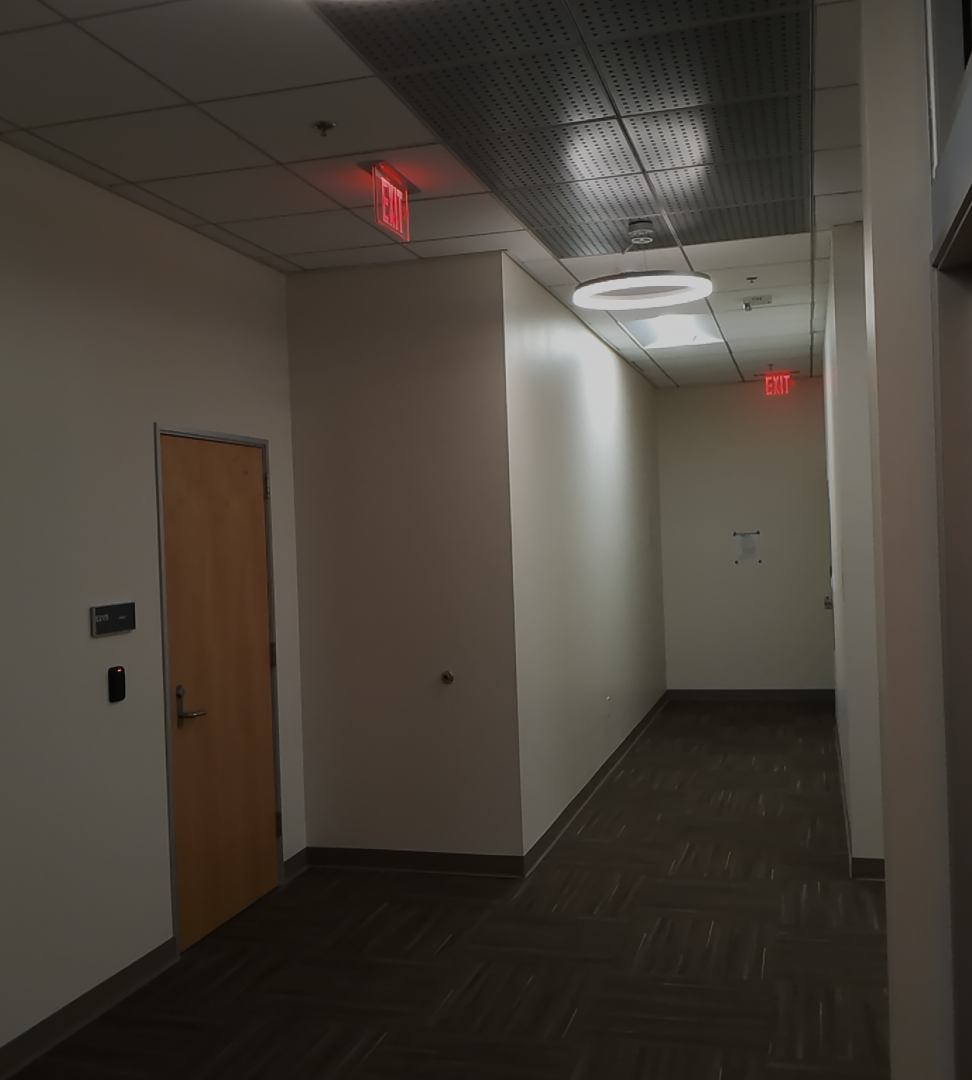emergency_exit: (369, 159, 413, 244), (761, 368, 794, 397)
